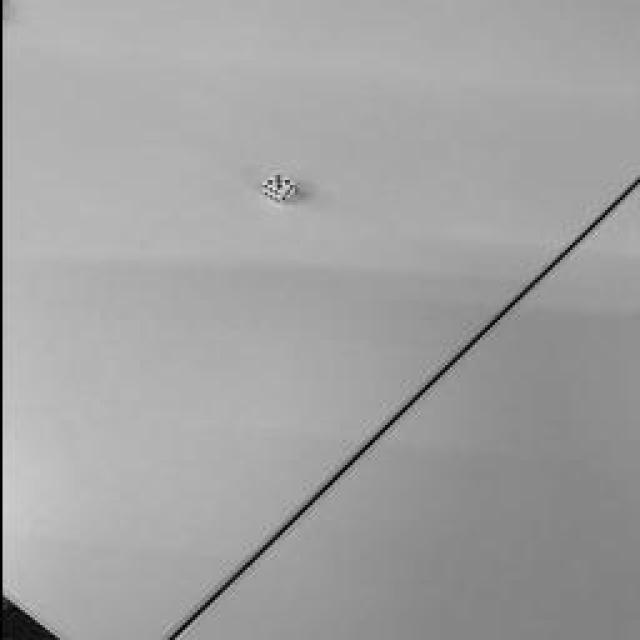dice_5: (261, 175, 294, 193)
